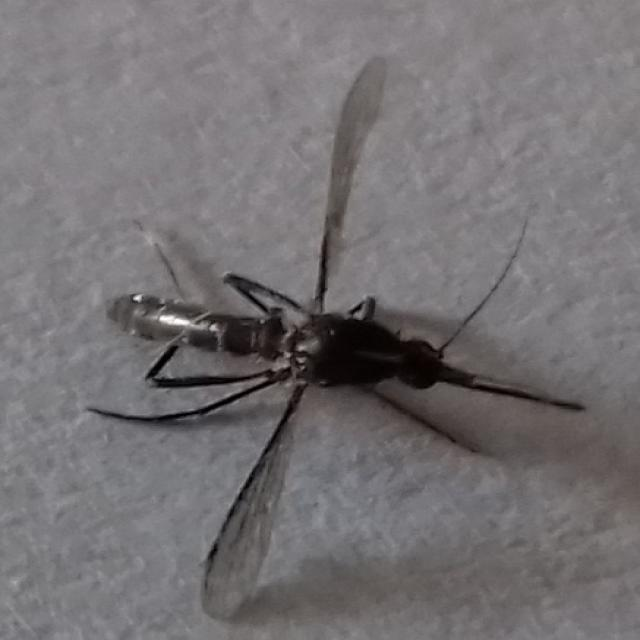albopictus: (72, 151, 581, 563)
